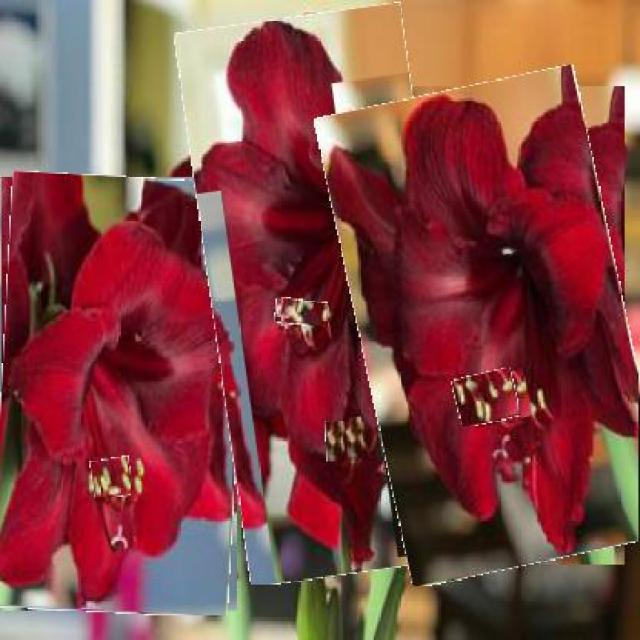Flower: (193, 9, 459, 580), (337, 75, 638, 577), (0, 174, 245, 615), (453, 372, 518, 426), (91, 457, 132, 498), (275, 299, 330, 326), (325, 420, 347, 463)
